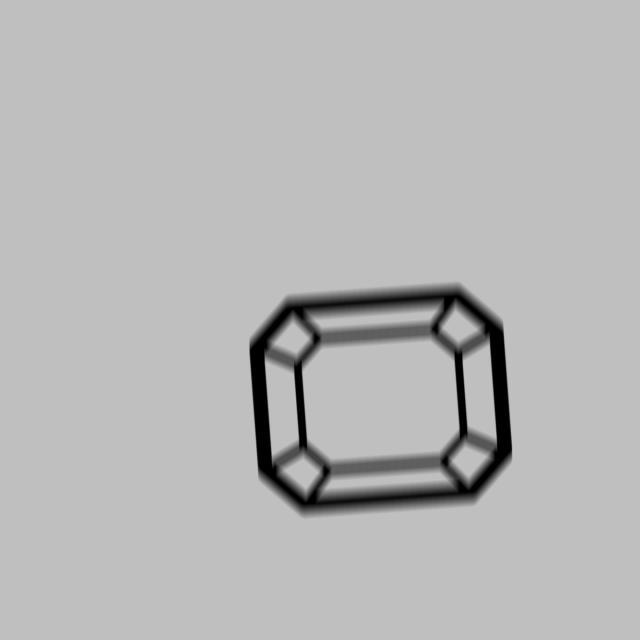emerald: (241, 274, 522, 531)
